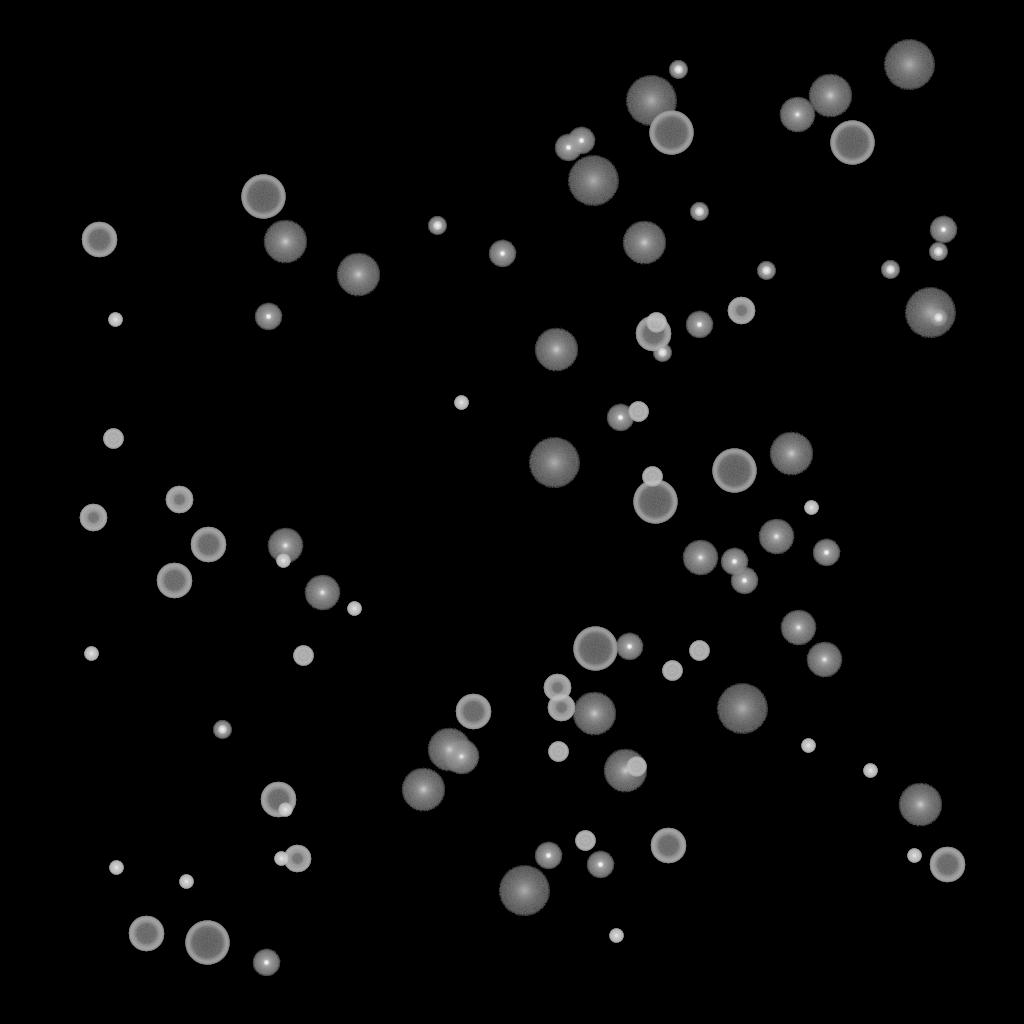depth:-10: (730, 567, 758, 595), (534, 842, 562, 870), (554, 134, 582, 162), (606, 404, 634, 432), (929, 216, 957, 244), (615, 633, 643, 661), (720, 548, 748, 576), (567, 127, 595, 155), (685, 311, 713, 339), (252, 949, 280, 977), (812, 539, 840, 567), (586, 851, 614, 879), (254, 303, 282, 331), (488, 240, 516, 268)
depth:-20: (881, 261, 899, 279), (213, 721, 231, 739), (690, 203, 708, 221), (929, 309, 947, 327), (757, 262, 775, 280), (929, 243, 947, 261), (669, 61, 687, 79), (428, 217, 446, 235), (653, 344, 671, 362)
depth:-30: (109, 861, 123, 875), (276, 554, 290, 568), (108, 313, 122, 327), (278, 803, 292, 817), (347, 602, 361, 616), (609, 929, 623, 943), (804, 501, 818, 515), (907, 849, 921, 863), (454, 396, 468, 410), (179, 875, 193, 889), (863, 764, 877, 778), (801, 739, 815, 753), (274, 852, 288, 866), (84, 647, 98, 661)
depth:-40: (293, 646, 313, 666), (628, 402, 648, 422), (548, 742, 568, 762), (689, 641, 709, 661), (662, 661, 682, 681), (103, 429, 123, 449), (646, 313, 666, 333), (642, 467, 662, 487), (626, 757, 646, 777), (575, 831, 595, 851)
depth:-50: (727, 297, 755, 325), (283, 845, 311, 873), (79, 504, 107, 532), (543, 674, 571, 702), (165, 486, 193, 514), (547, 694, 575, 722)
depth:-60: (81, 222, 117, 258), (156, 563, 192, 599), (128, 916, 164, 952), (190, 527, 226, 563), (455, 694, 491, 730), (650, 828, 686, 864), (929, 847, 965, 883), (635, 316, 671, 352), (260, 782, 296, 818)
depth:-70: (573, 627, 617, 671), (185, 921, 229, 965), (649, 111, 693, 155), (830, 121, 874, 165), (712, 449, 756, 493), (241, 175, 285, 219), (633, 480, 677, 524)
depth:0: (267, 528, 303, 564), (443, 739, 479, 775), (779, 97, 815, 133), (304, 575, 340, 611), (780, 610, 816, 646), (682, 540, 718, 576), (806, 642, 842, 678), (758, 519, 794, 555)
depth:10: (808, 74, 852, 118), (336, 253, 380, 297), (622, 221, 666, 265), (572, 692, 616, 736), (769, 432, 813, 476), (427, 728, 471, 772), (898, 783, 942, 827), (401, 768, 445, 812), (603, 749, 647, 793), (534, 328, 578, 372), (263, 220, 307, 264)
depth:20: (567, 156, 619, 206), (528, 438, 580, 488), (498, 866, 550, 916), (883, 40, 935, 90), (904, 288, 956, 338), (716, 684, 768, 734), (625, 76, 677, 126)
